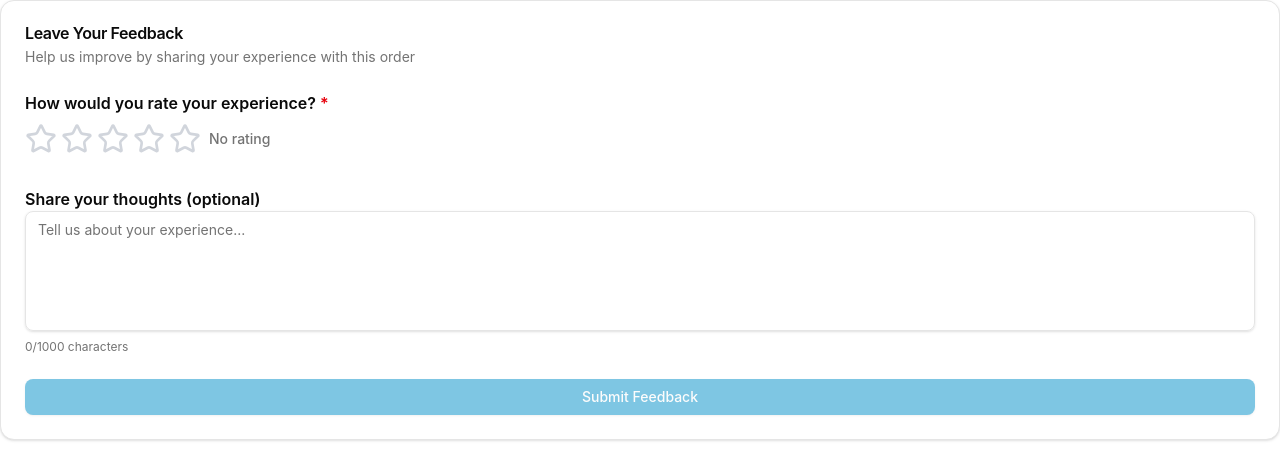
FeedbackForm › Form Submission › enables submit button when rating is selected
Expected: the button "Submit Feedback" is disabled, left=25, top=379, right=1255, bottom=415
Click the button named "Rate 1 out of 5 stars" at (41, 139), box left=25, top=123, right=57, bottom=155
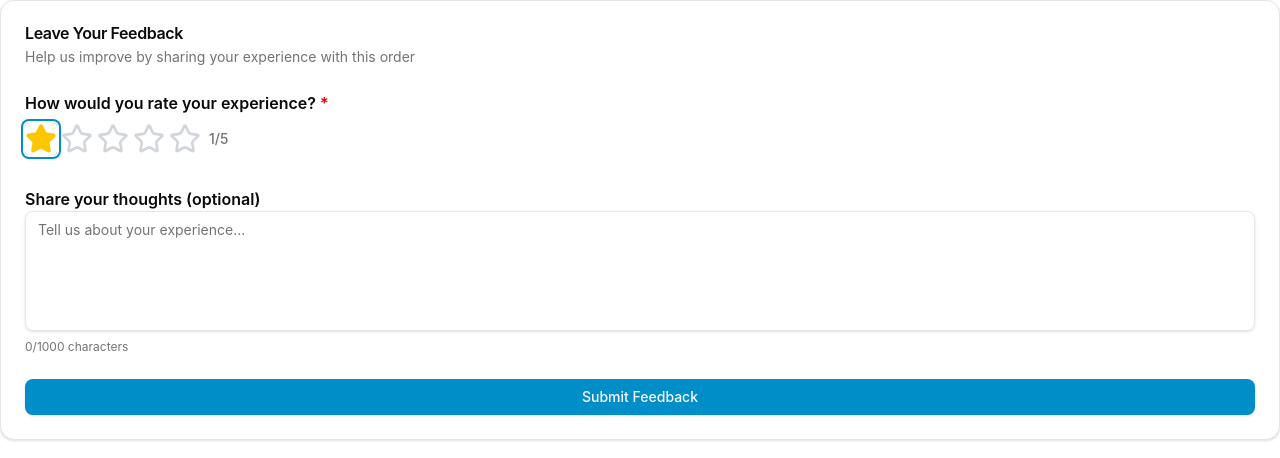
Result: the button "Submit Feedback" is enabled at left=25, top=379, right=1255, bottom=415
